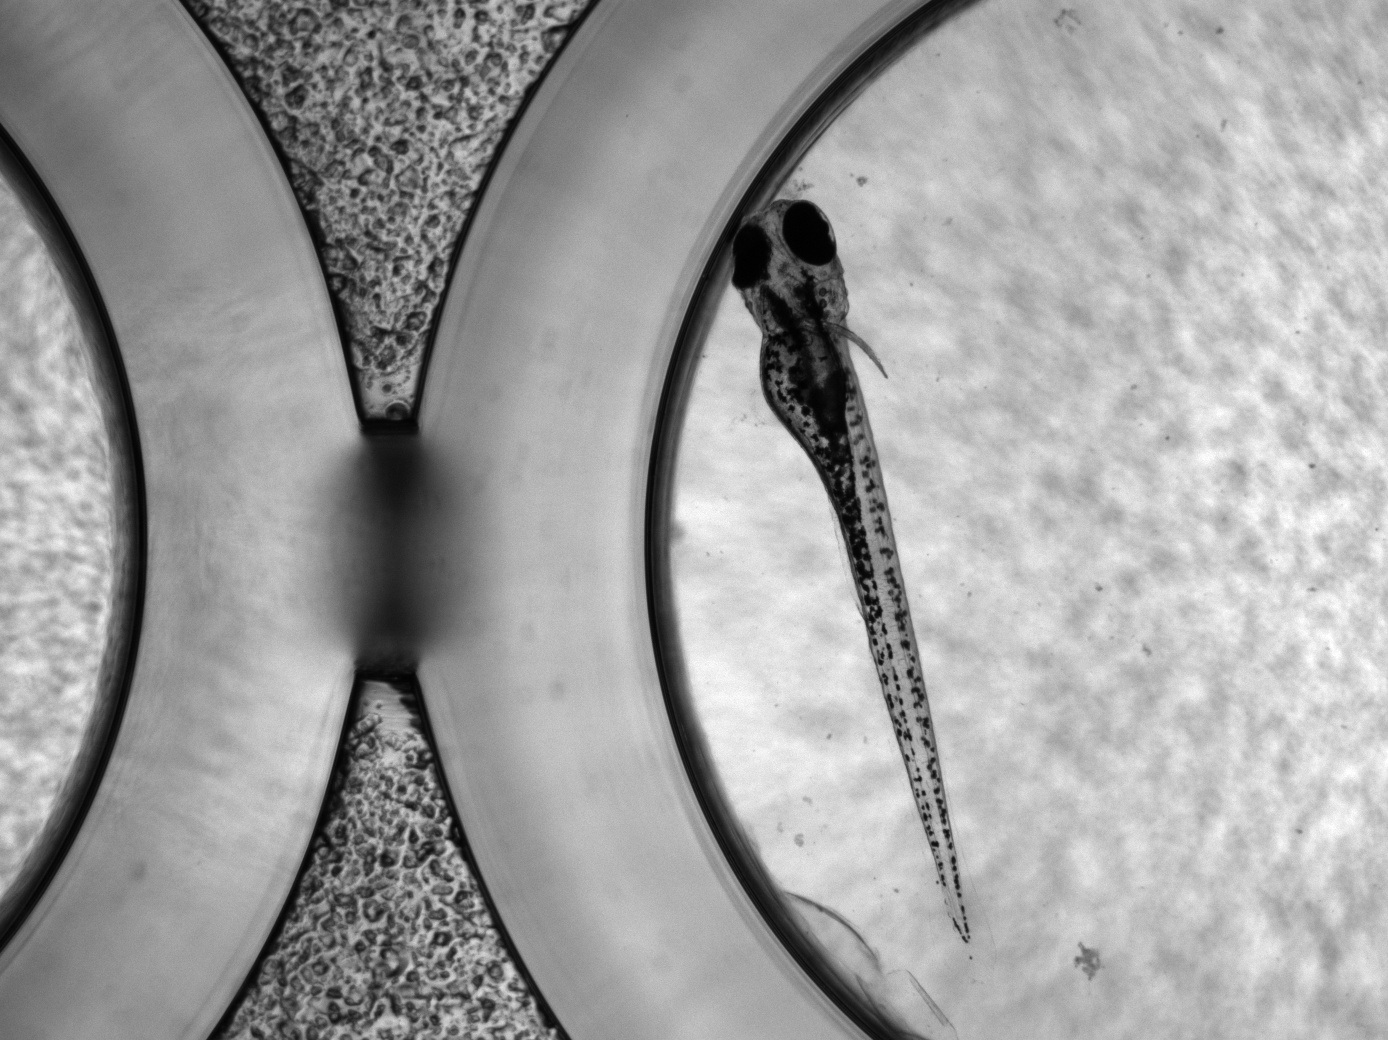embryo: (729, 198, 971, 943)
eye: (782, 200, 837, 265), (731, 223, 772, 289)
yolksac: (760, 330, 853, 435)
